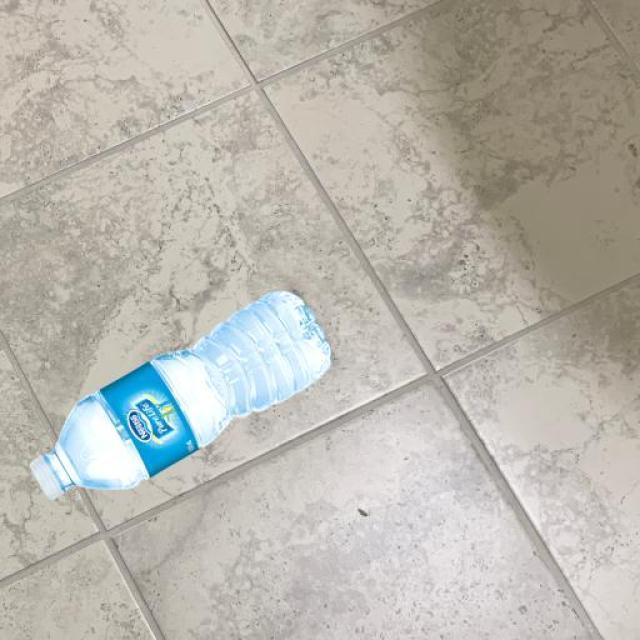bottle: (28, 288, 332, 502)
